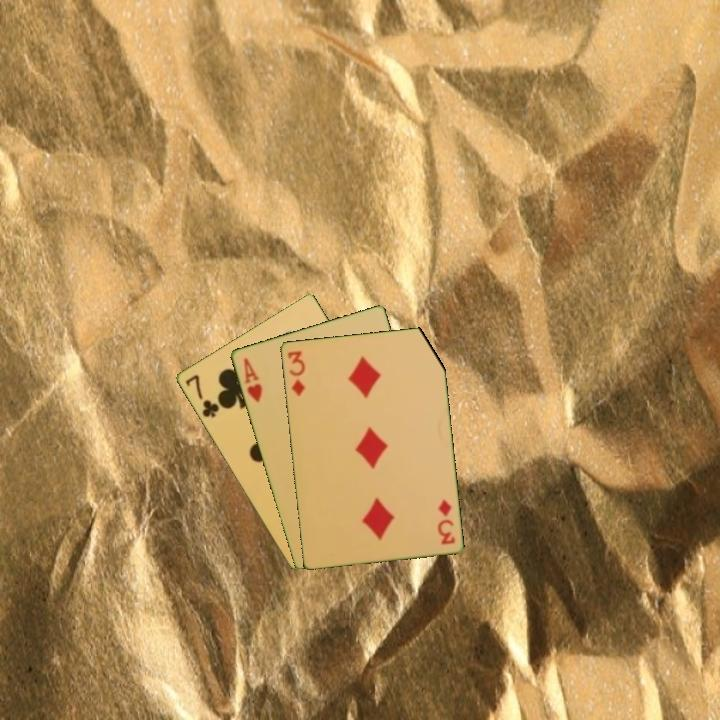3d: (284, 347, 308, 399), (434, 496, 457, 547)
7c: (181, 371, 222, 421)
Ah: (240, 354, 265, 406)
